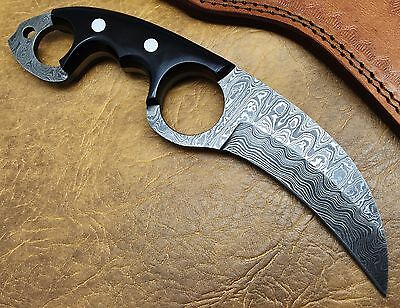knief: (21, 13, 391, 293)
